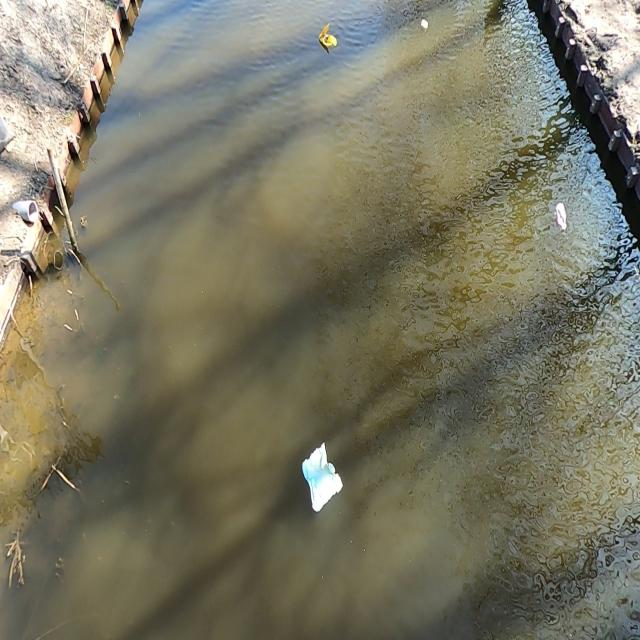Autre plastique: (317, 23, 338, 54)
